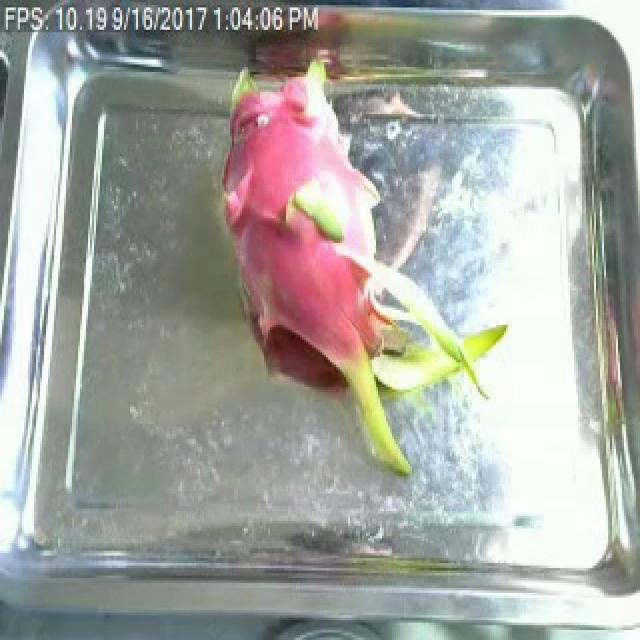fruit: (218, 72, 510, 486)
